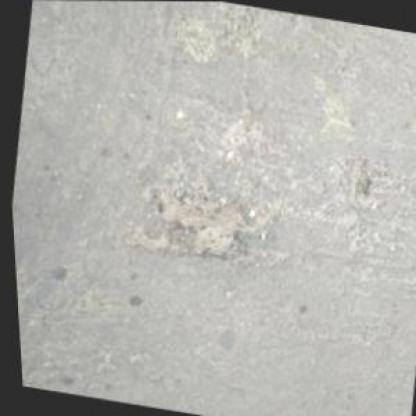pothole: (125, 165, 254, 272), (345, 158, 373, 197)
